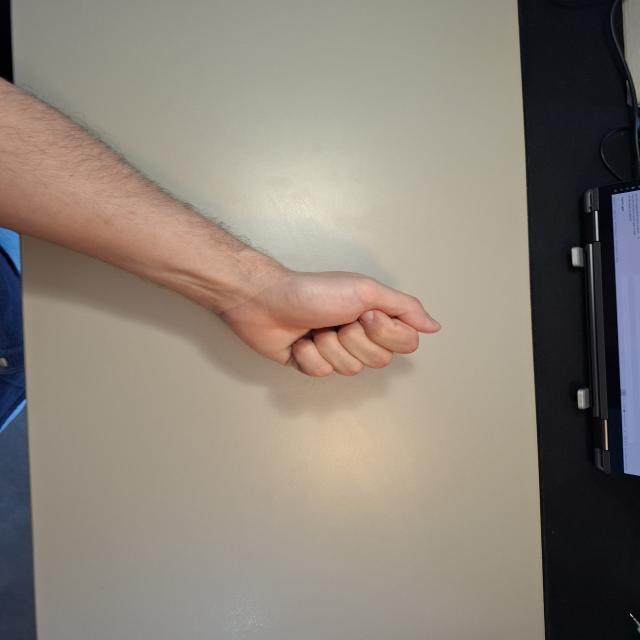glove_off: (206, 262, 445, 379)
